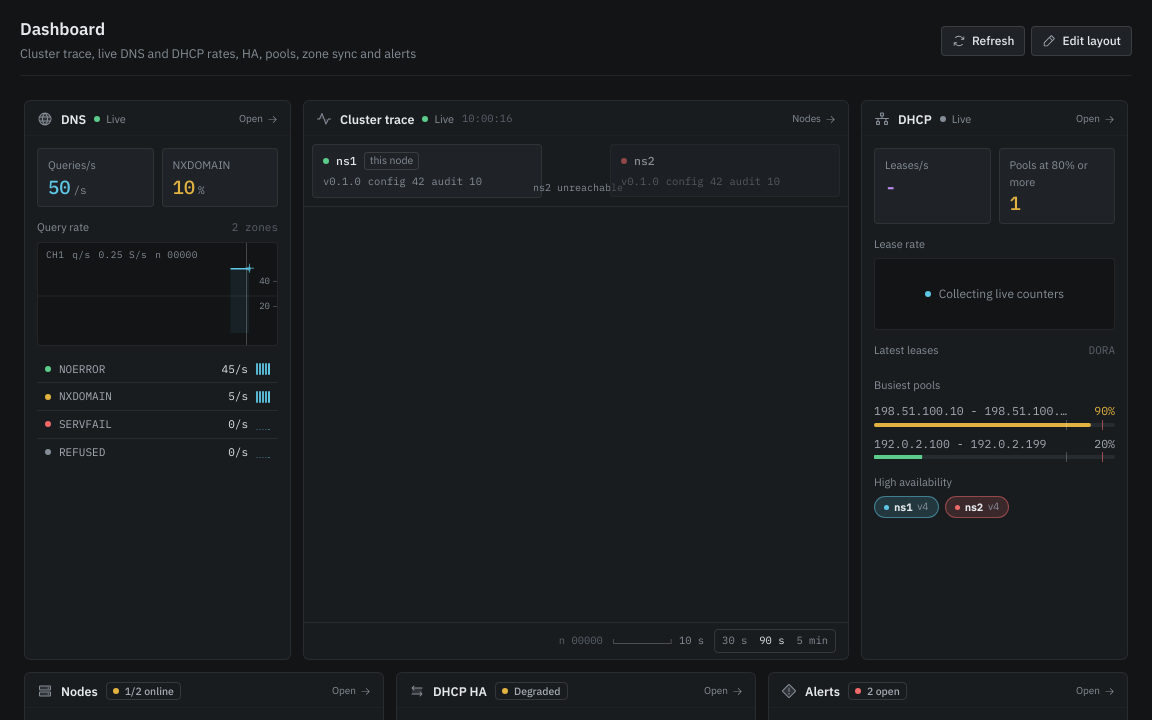
DashboardPage › saves the layout through PUT /dashboard/layout
The image size is (1152, 720).
Click the button with test id "dashboard-edit".
click(1082, 40)  # box [1031,26,1132,56]
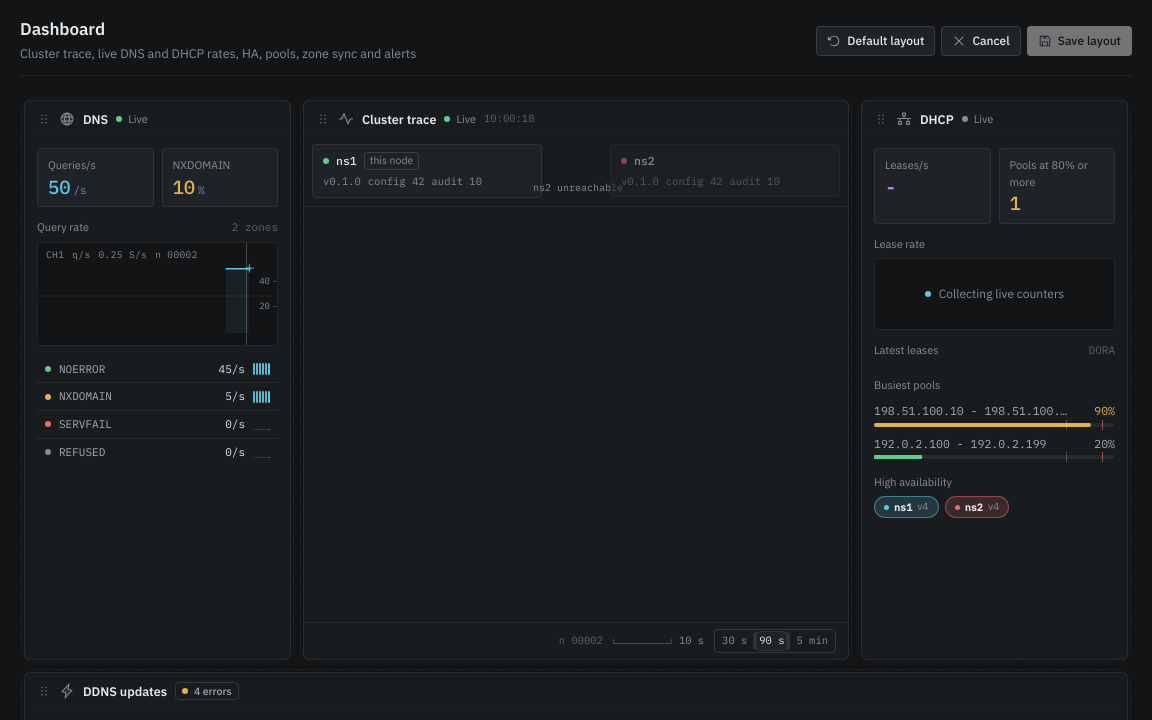
Check: the button with test id "dashboard-save" is disabled, box [1027,26,1132,56]
Click the button with test id "dashboard-reset".
click(876, 40)  # box [816,26,936,56]
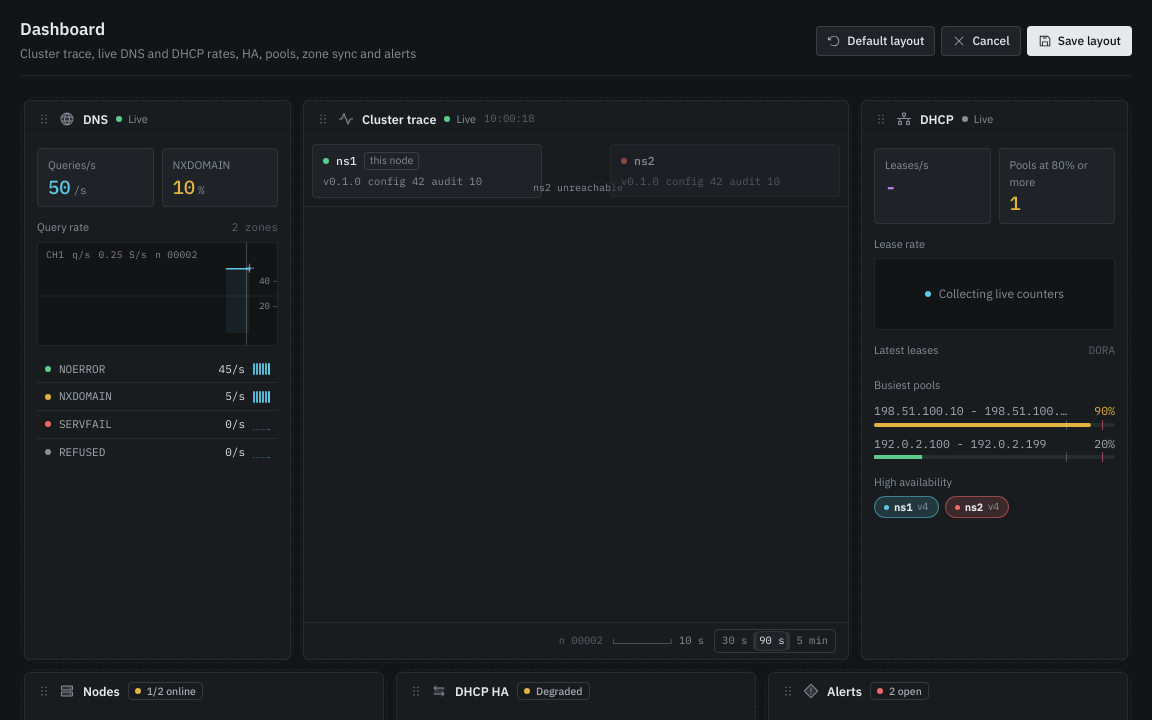
Check: the button with test id "dashboard-save" is enabled
Click the button with test id "dashboard-save".
click(1079, 40)  # box [1027,26,1132,56]
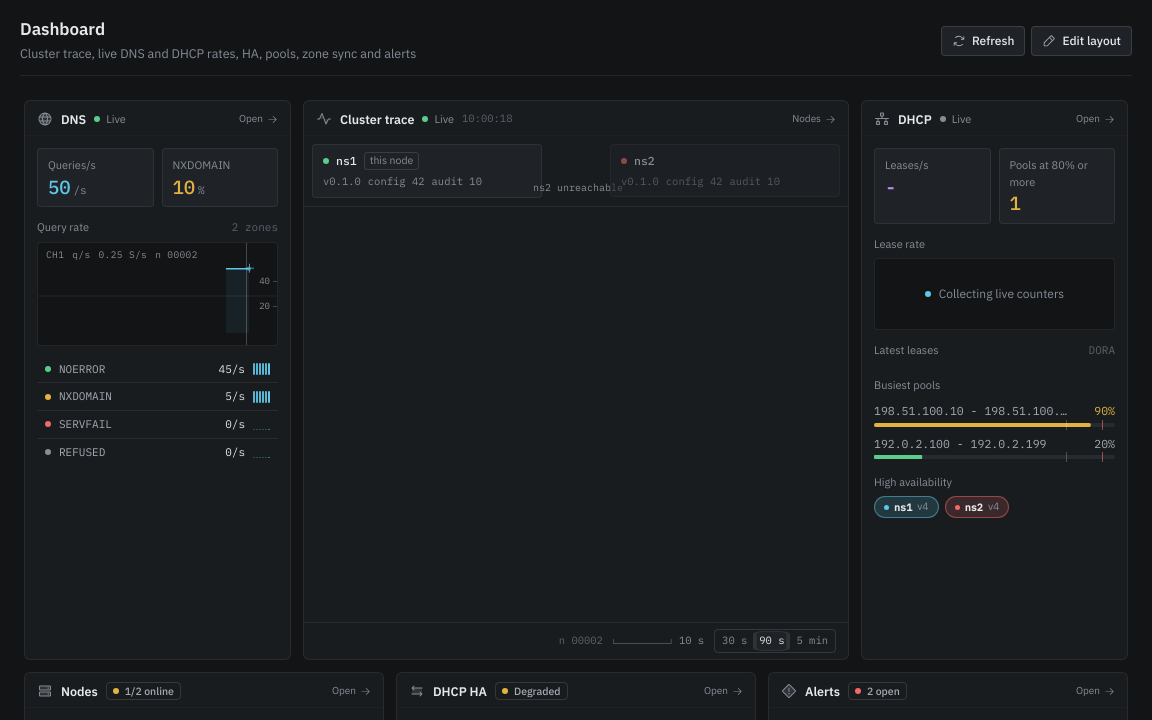
Check: the button with test id "dashboard-edit" is shown, box [1031,26,1132,56]
